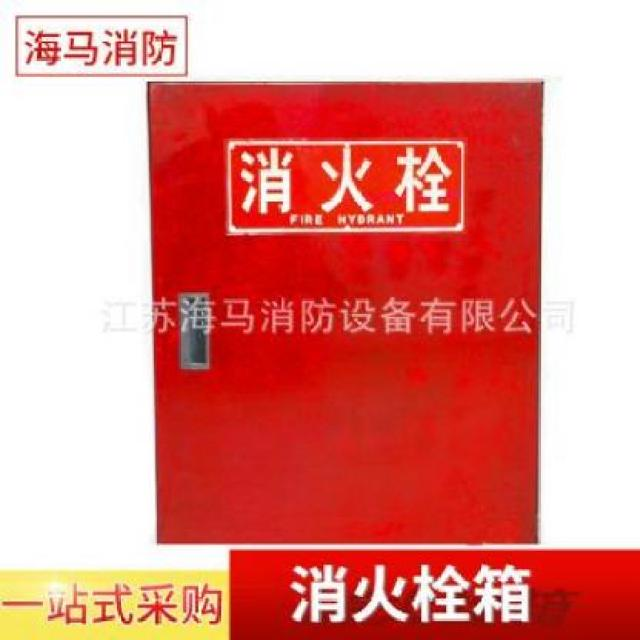firehydrant: (143, 74, 548, 549)
